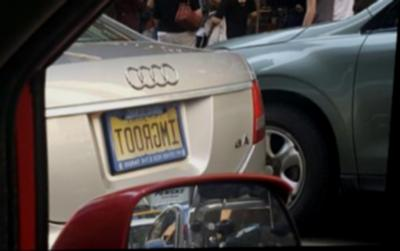License_Plate: (108, 99, 189, 172)
